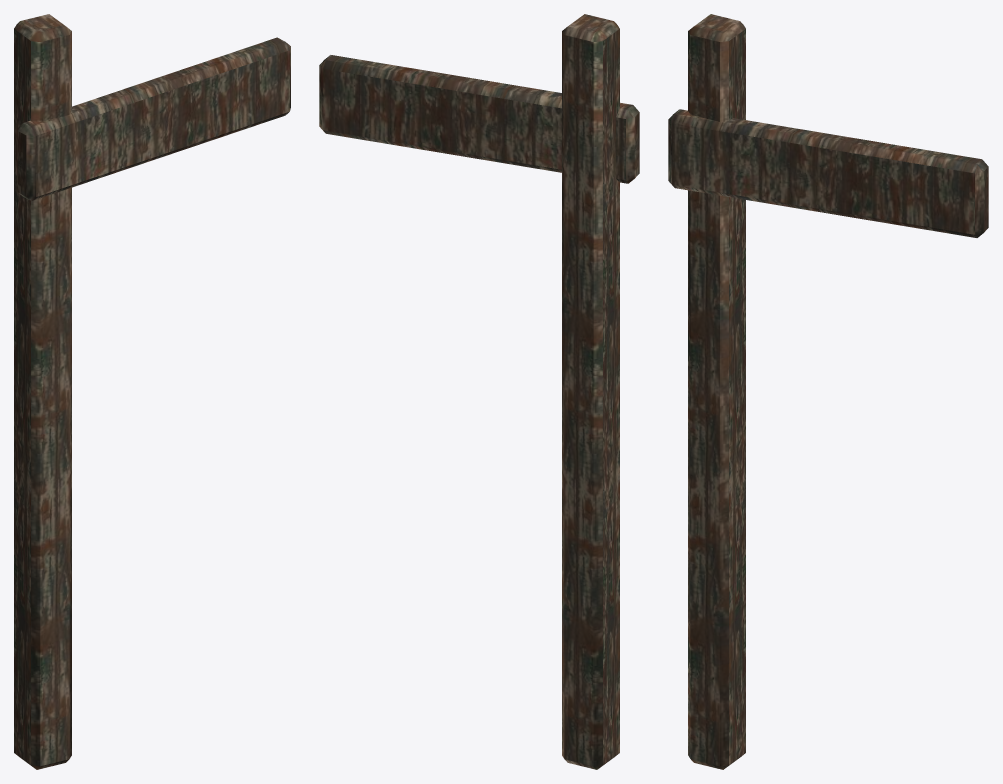
File: prop_signpost.glb
3 views of the same model, side by side, from view 1: azimuth 30°, elevation 25°; view 2: azimuth 150°, elevation 25°; view 3: azimuth 330°, elevation 25° (orthographic).
Parts seen in each view (by area): view 1: PROP_Signpost; view 2: PROP_Signpost; view 3: PROP_Signpost.
Part boxes in pixels (x1,y1,x2,y2): PROP_Signpost: (14,14,290,769); PROP_Signpost: (319,14,639,769); PROP_Signpost: (668,14,988,769).
Bounding box in the file's own units: 0.9947 × 2.4 × 0.2226.
1 material, 1 textured.
